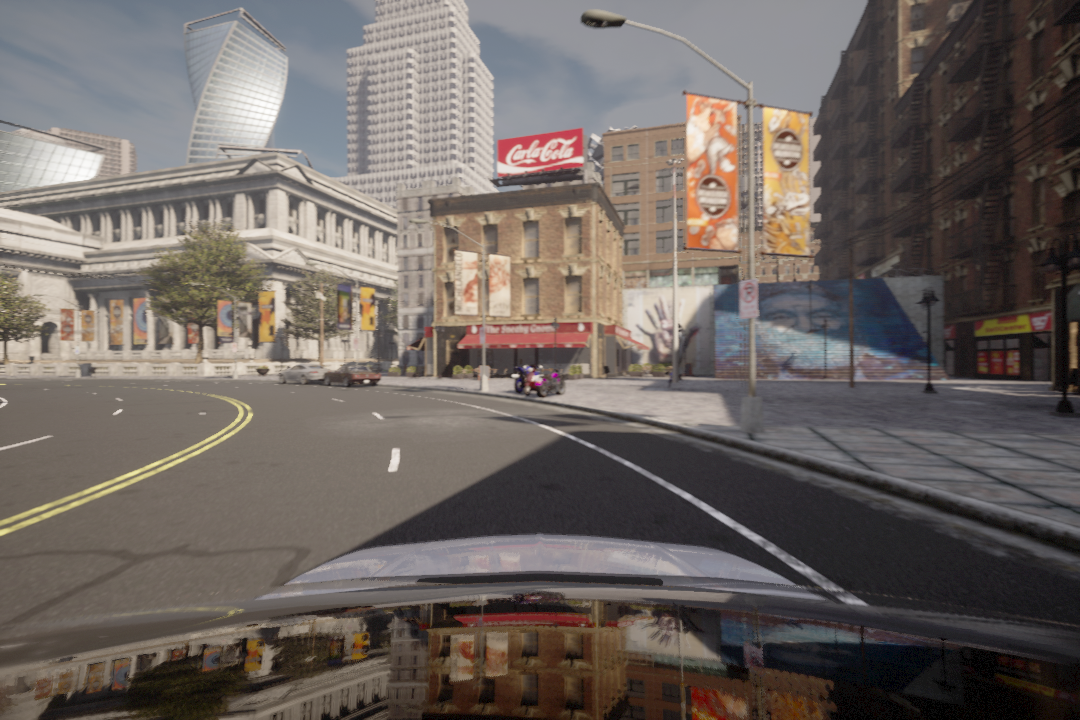TrafficSign_nstop: (736, 278, 763, 320)
